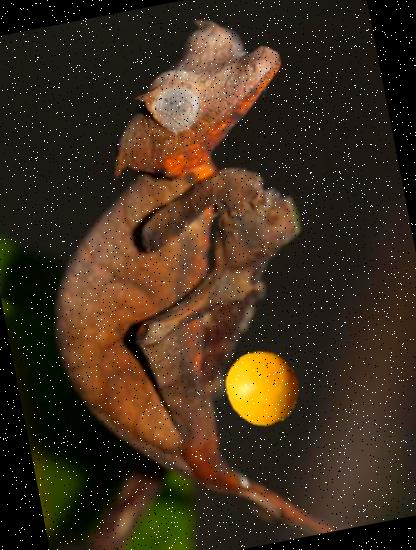Grapefruit: (218, 343, 308, 433)
